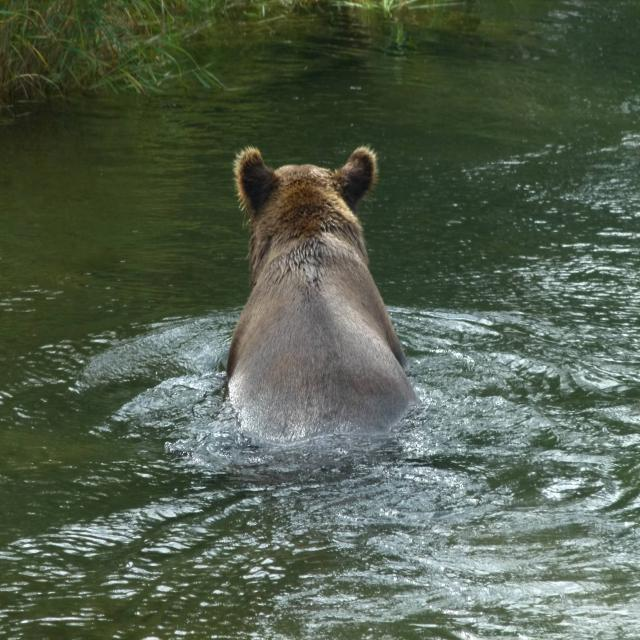bear face: (234, 148, 399, 419)
